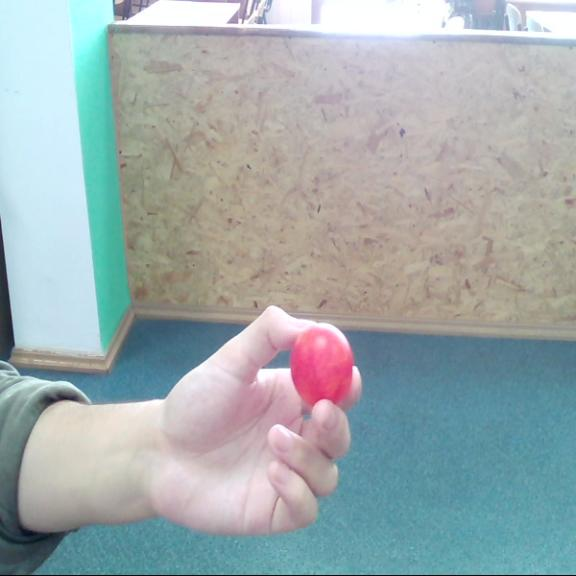ball: (290, 323, 355, 400)
